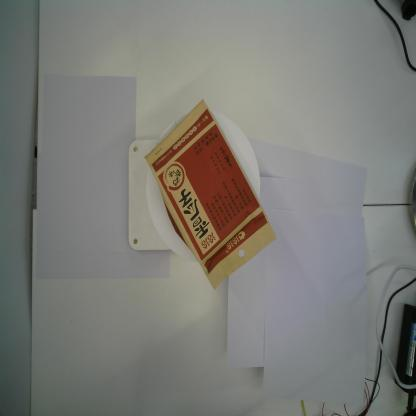Dried Food: (144, 98, 276, 291)
